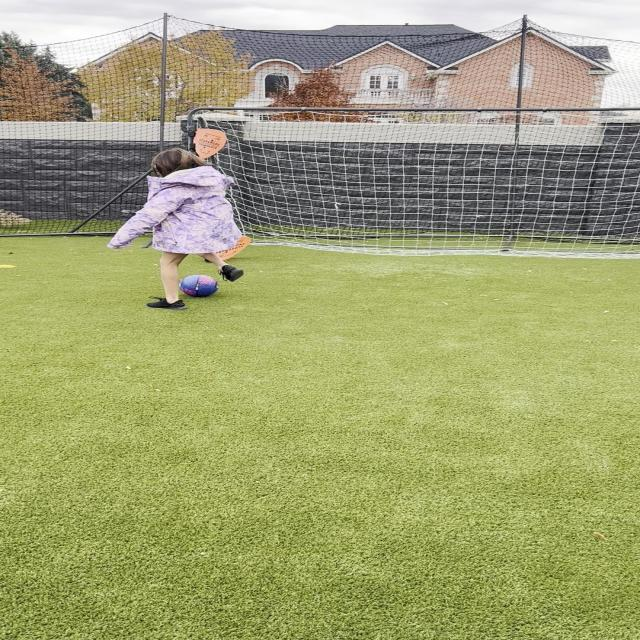Soccer Ball: (178, 274, 220, 298)
